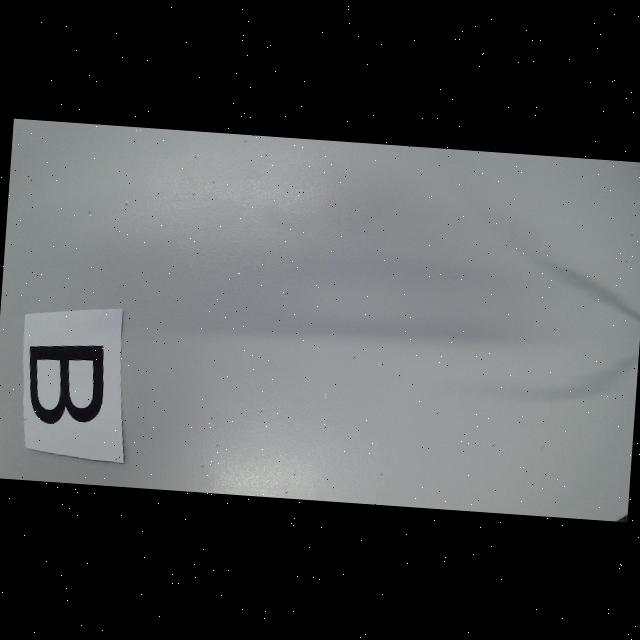FAKE: (24, 342, 106, 428)
